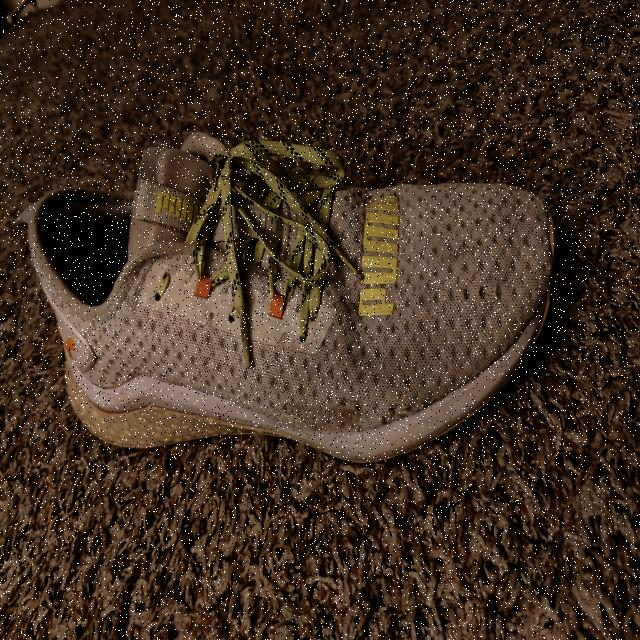white shoes: (24, 163, 566, 459)
